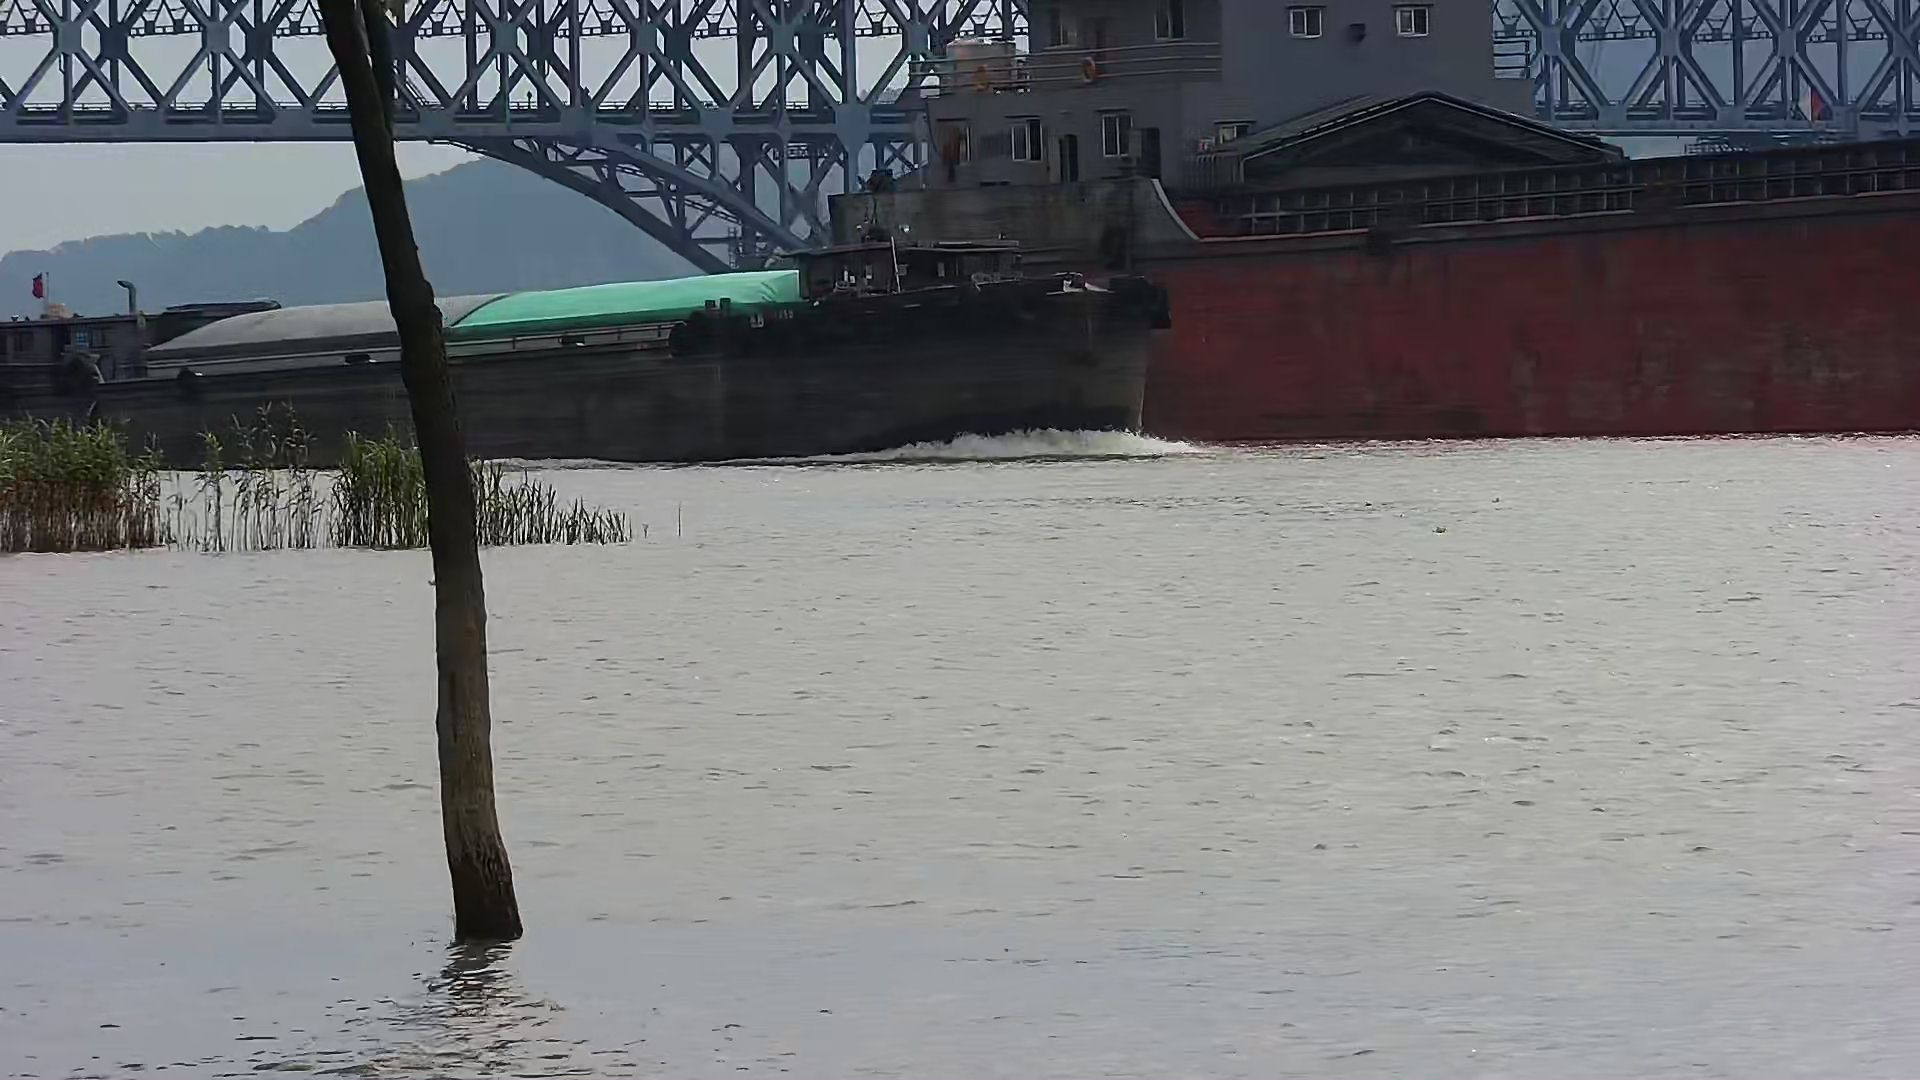bridge: (4, 1, 1920, 334)
grass: (1, 411, 708, 555)
ship: (820, 26, 1917, 455), (1, 229, 1244, 483)
tree: (322, 1, 531, 963)
